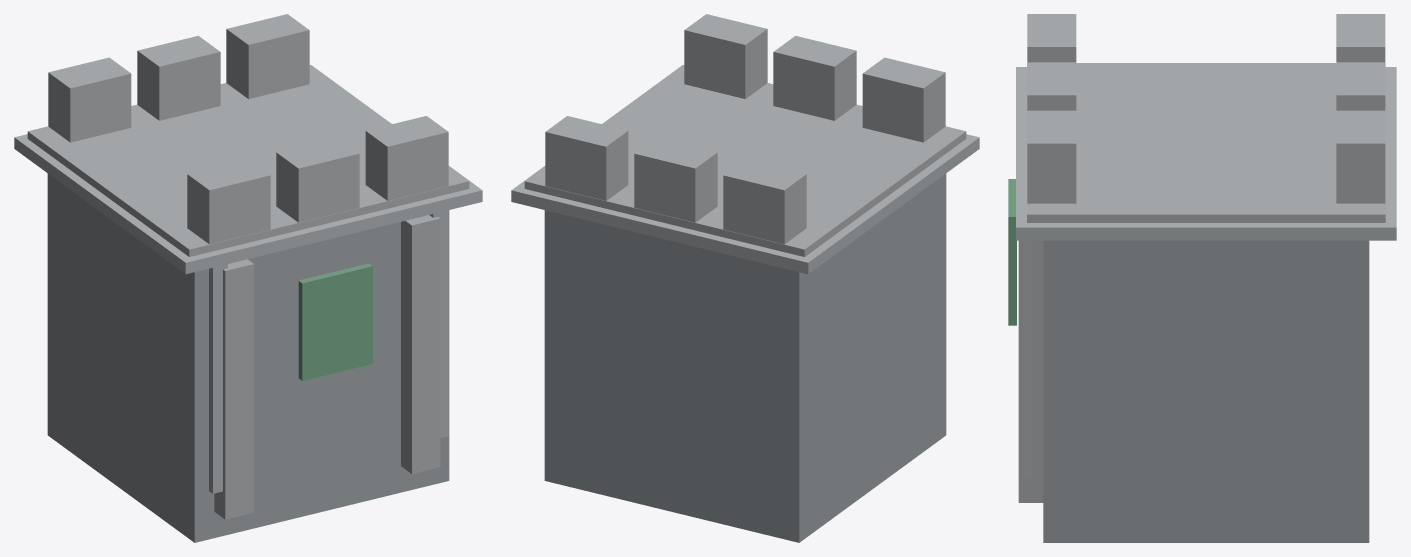
The model's file is torre_arqueros.glb.
3 renders of one model, left to right at view 1: azimuth 30°, elevation 25°; view 2: azimuth 150°, elevation 25°; view 3: azimuth 270°, elevation 25°, orthographic. The views are drawn at different scales.
Parts seen in each view (by area): view 1: nivel_2_sillares, nivel_3_hierro, nivel_3_madera; view 2: nivel_2_sillares, nivel_3_hierro; view 3: nivel_2_sillares, nivel_3_hierro, nivel_3_madera.
Boxes of the visible parts, x1,y1,x2,y2 form: nivel_2_sillares: (27, 14, 469, 542); nivel_3_hierro: (14, 65, 482, 493); nivel_3_madera: (298, 263, 372, 380); nivel_2_sillares: (524, 14, 966, 542); nivel_3_hierro: (511, 65, 979, 274); nivel_2_sillares: (1018, 14, 1385, 542); nivel_3_hierro: (1016, 67, 1396, 478); nivel_3_madera: (1008, 179, 1016, 325).
Bounding box in the file's own units: 3.5 × 4.01 × 3.57.
